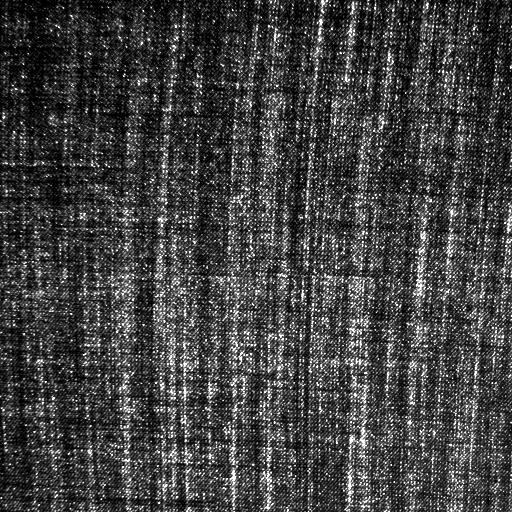fabric_perfect: (0, 4, 508, 510)
